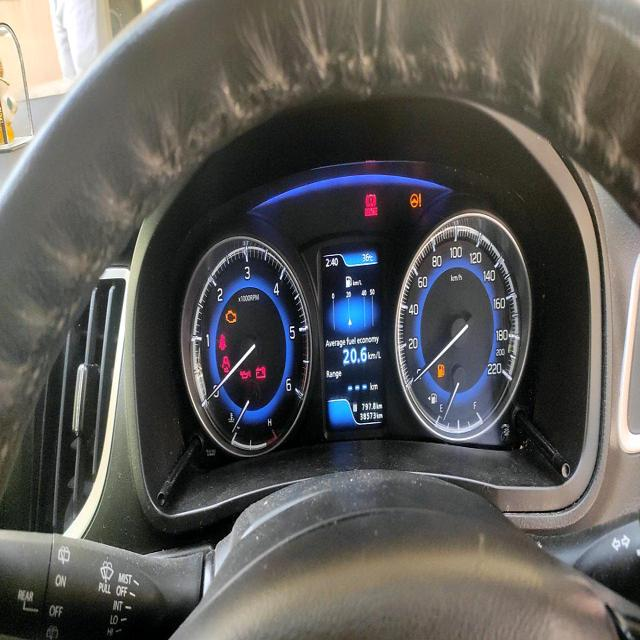odometer: (359, 409, 377, 422)
